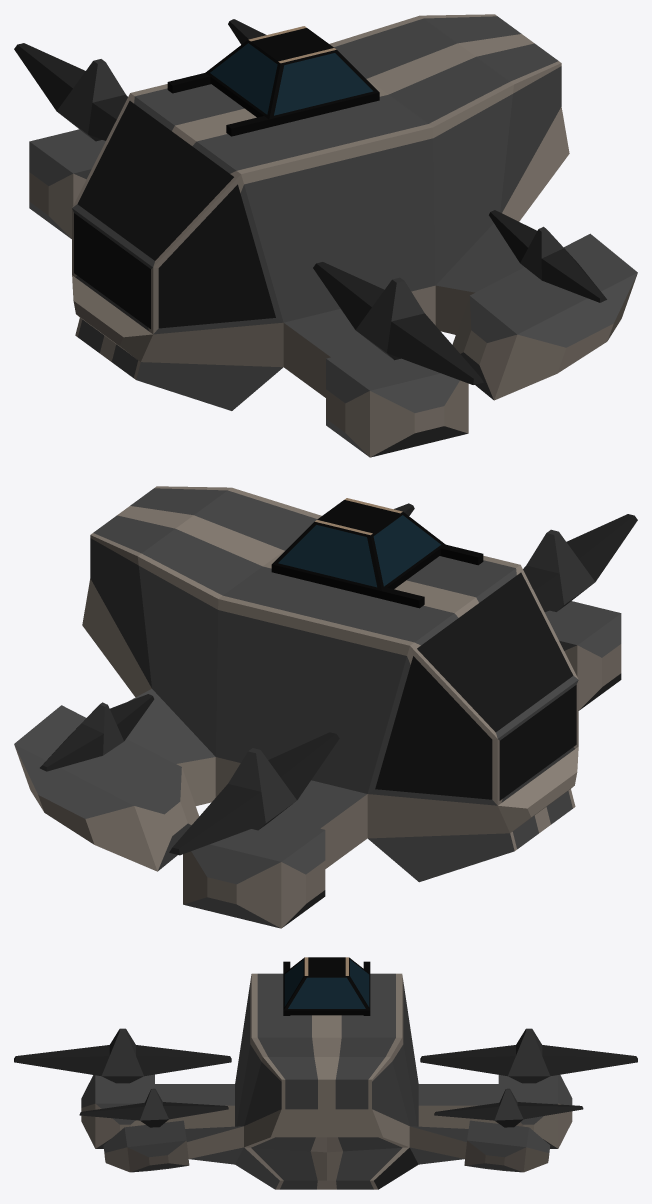
The model's file is DroneBoss.fbx.
3 renders of one model, top to bottom at view 1: azimuth 30°, elevation 25°; view 2: azimuth 150°, elevation 25°; view 3: azimuth 270°, elevation 25°, orthographic. The views are drawn at different scales.
Parts seen in each view (by area): view 1: Cube, Cube.001, Cube.002, Cube.003, Cube.004; view 2: Cube, Cube.001, Cube.003, Cube.002, Cube.005; view 3: Cube, Cube.002, Cube.003, Cube.001, Cube.004, Cube.005.
Part boxes in pixels (x1=…): Cube: x1=29, y1=14, x2=637, y2=457; Cube.001: x1=167, y1=26, x2=379, y2=136; Cube.002: x1=313, y1=262, x2=483, y2=384; Cube.003: x1=14, y1=43, x2=127, y2=141; Cube.004: x1=489, y1=210, x2=606, y2=302; Cube: x1=14, y1=486, x2=621, y2=928; Cube.001: x1=271, y1=498, x2=483, y2=608; Cube.003: x1=169, y1=732, x2=339, y2=855; Cube.002: x1=523, y1=514, x2=637, y2=611; Cube.005: x1=40, y1=694, x2=154, y2=771; Cube: x1=81, y1=973, x2=572, y2=1189; Cube.002: x1=14, y1=1028, x2=231, y2=1083; Cube.003: x1=420, y1=1028, x2=637, y2=1083; Cube.001: x1=283, y1=957, x2=370, y2=1015; Cube.004: x1=79, y1=1088, x2=228, y2=1127; Cube.005: x1=434, y1=1088, x2=583, y2=1127.
Size of the model in its own units: 448 by 296 by 828.
